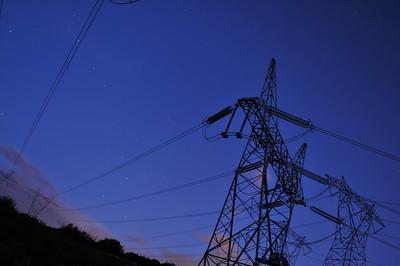power_tower: (188, 60, 315, 264), (311, 170, 386, 266)
